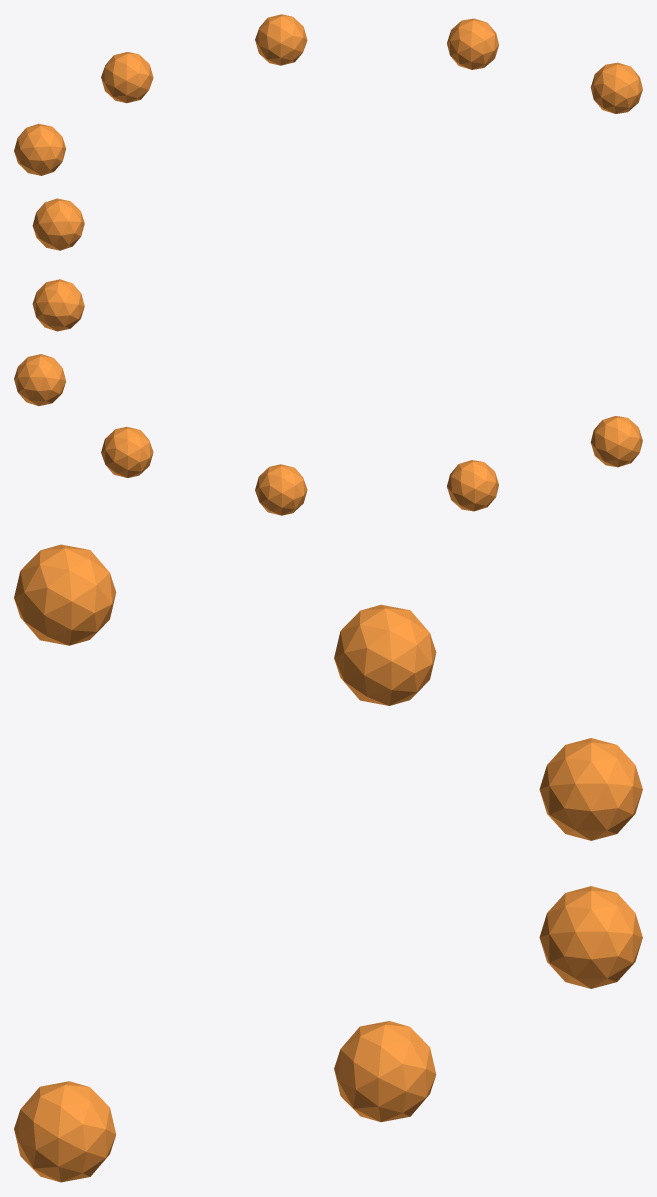
File: SatanEyes.obj
3 views of the same model, one above another, from view 1: azimuth 30°, elevation 25°; view 2: azimuth 150°, elevation 25°; view 3: azimuth 270°, elevation 25° (orthographic). The views are drawn at different scales.
Visible parts, largest first — view 1: SatanEyes; view 2: SatanEyes; view 3: SatanEyes.
Boxes of the visible parts, left/top/right/bottom form: SatanEyes: left=14, top=14, right=642, bottom=250; SatanEyes: left=14, top=279, right=642, bottom=515; SatanEyes: left=14, top=544, right=642, bottom=1182.
Size of the model in its own units: 0.3434 by 0.026 by 0.158.
Materials: 1 (1 with a texture image).
